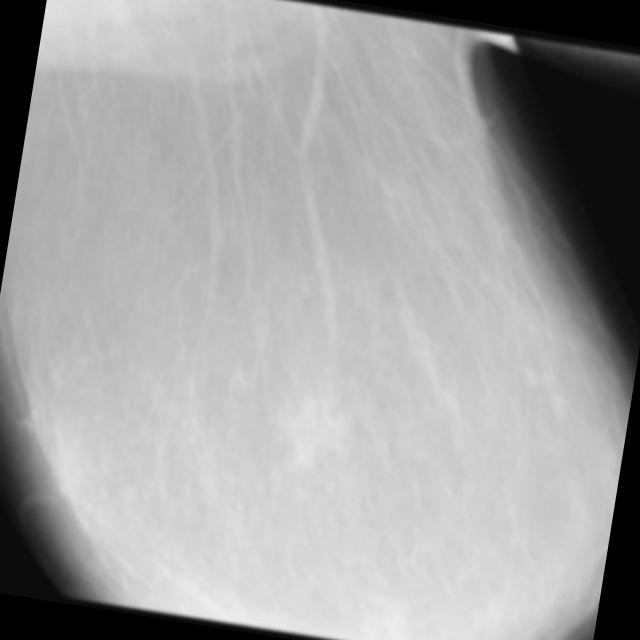ARCH: (286, 388, 354, 458)
